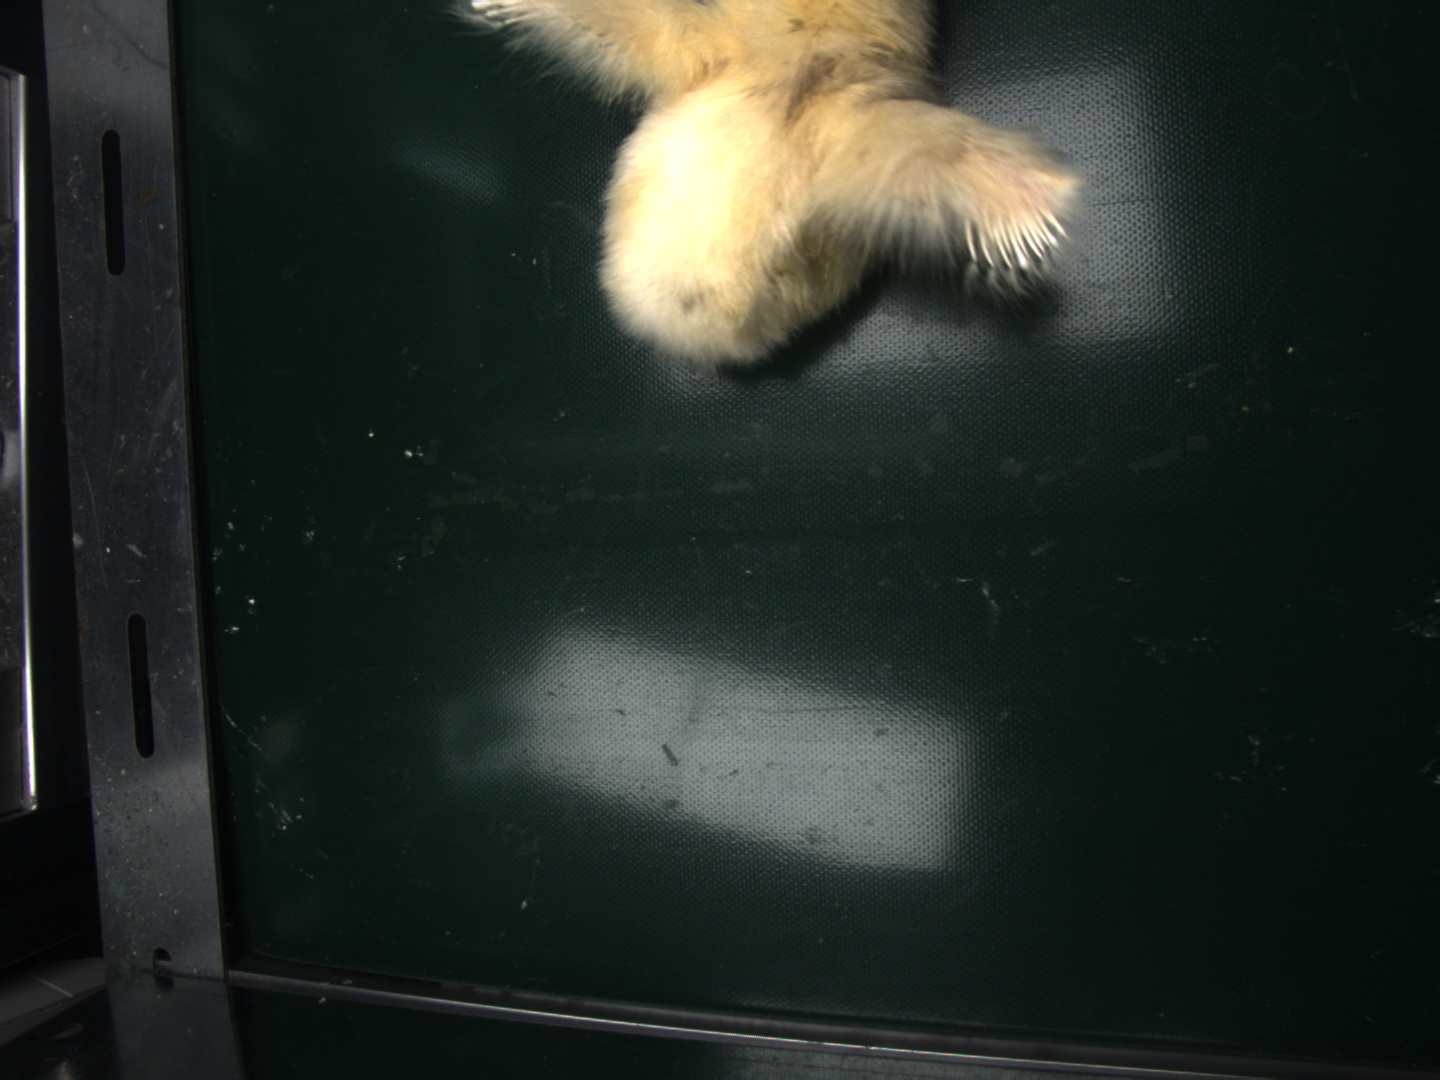male: (969, 206, 1064, 270)
